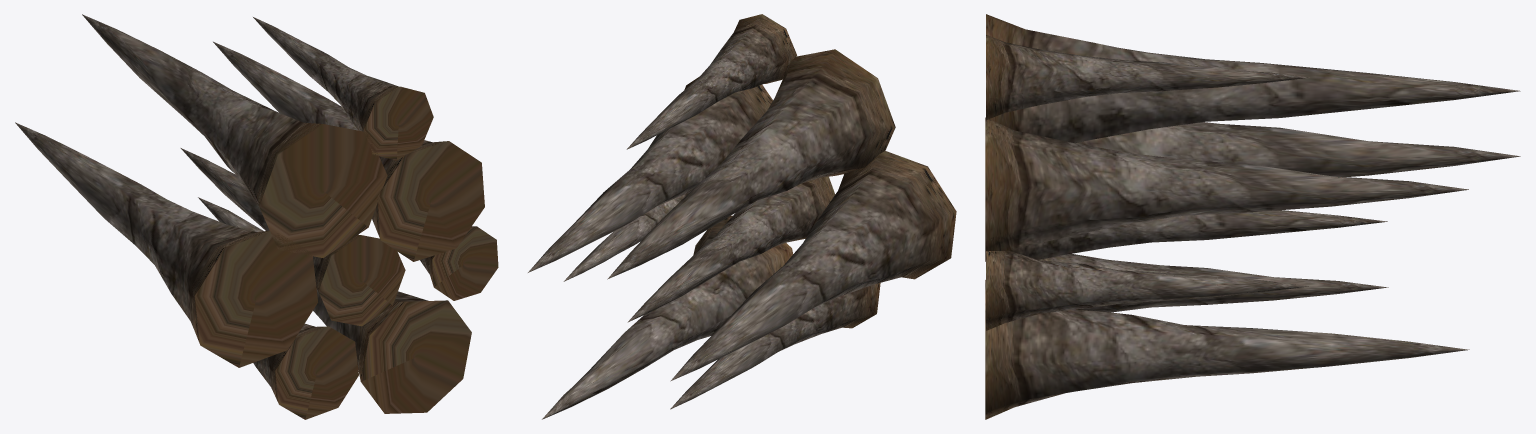
Rendered from indan_4.FBX.
3 views of the same model, side by side, from view 1: azimuth 30°, elevation 25°; view 2: azimuth 150°, elevation 25°; view 3: azimuth 270°, elevation 25° (orthographic). The views are drawn at different scales.
Parts seen in each view (by area): view 1: Box003; view 2: Box003; view 3: Box003.
Part boxes in pixels (box(x1,y1,x2,y2)): Box003: box(15, 14, 498, 419); Box003: box(528, 14, 956, 419); Box003: box(985, 14, 1520, 419).
Size of the model in its own units: 0.0321 by 0.0335 by 0.0443.
